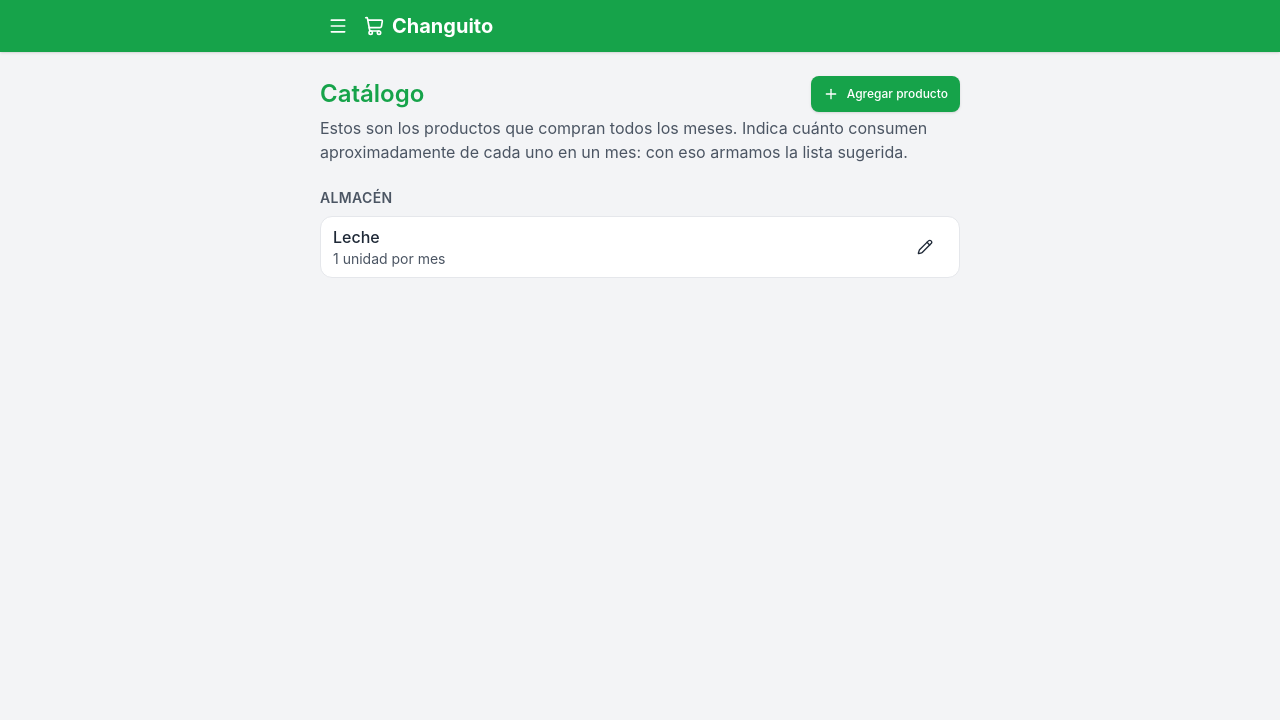
CatalogPage › removes a product from the catalog
Click the button named "Editar Leche" at (925, 247), box [903,225,947,269]
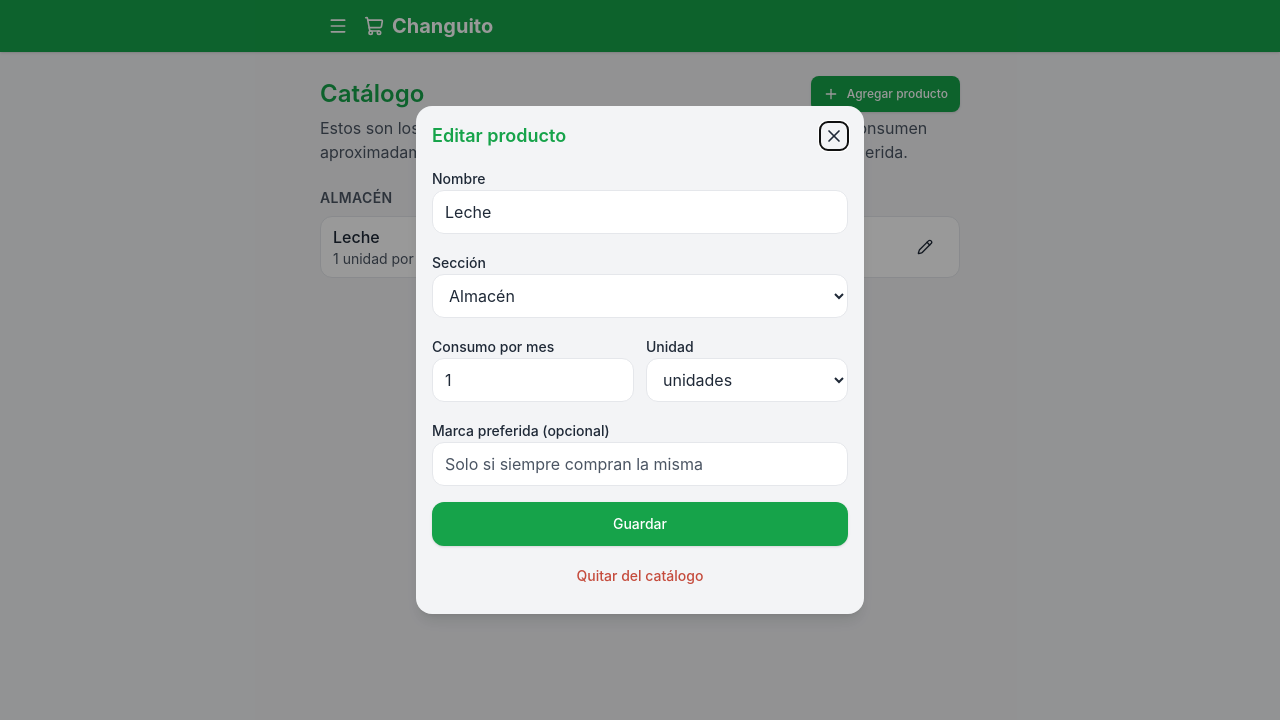
Click the button "Quitar del catálogo" at (640, 576), box [432,554,848,598]
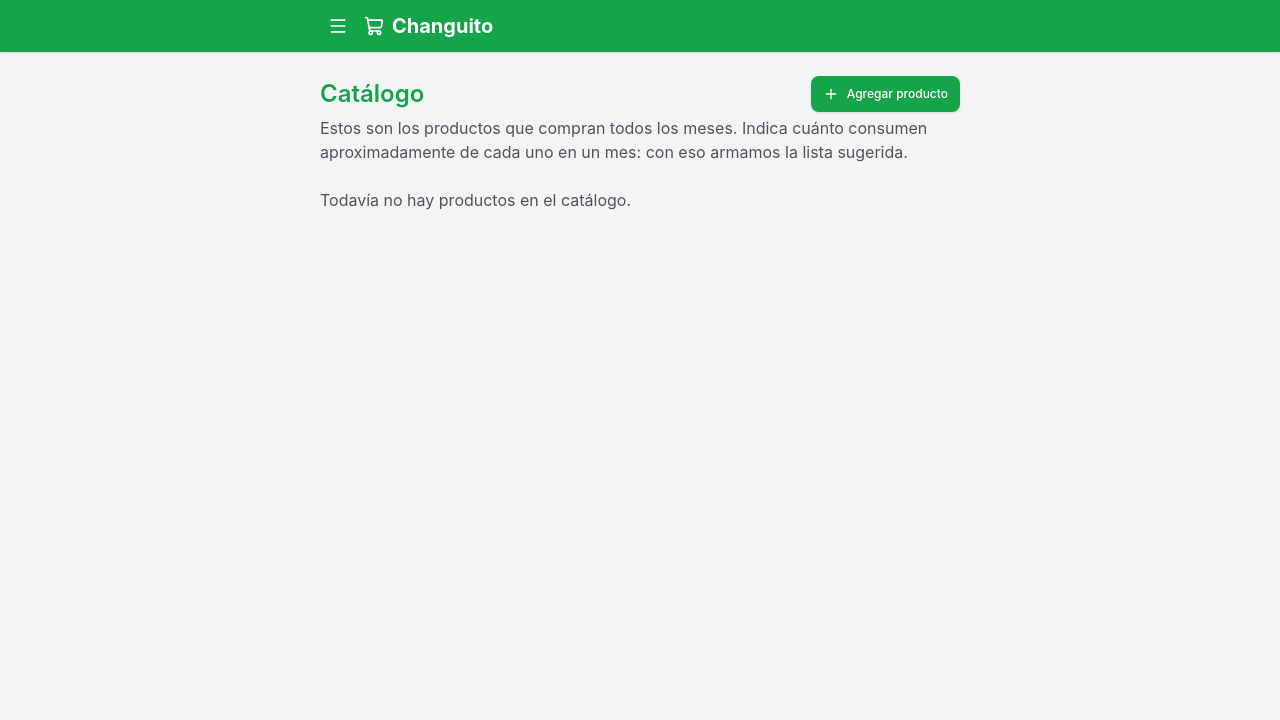
expect the text "Todavía no hay productos en el catálogo." is shown: met, box [320,190,631,210]
